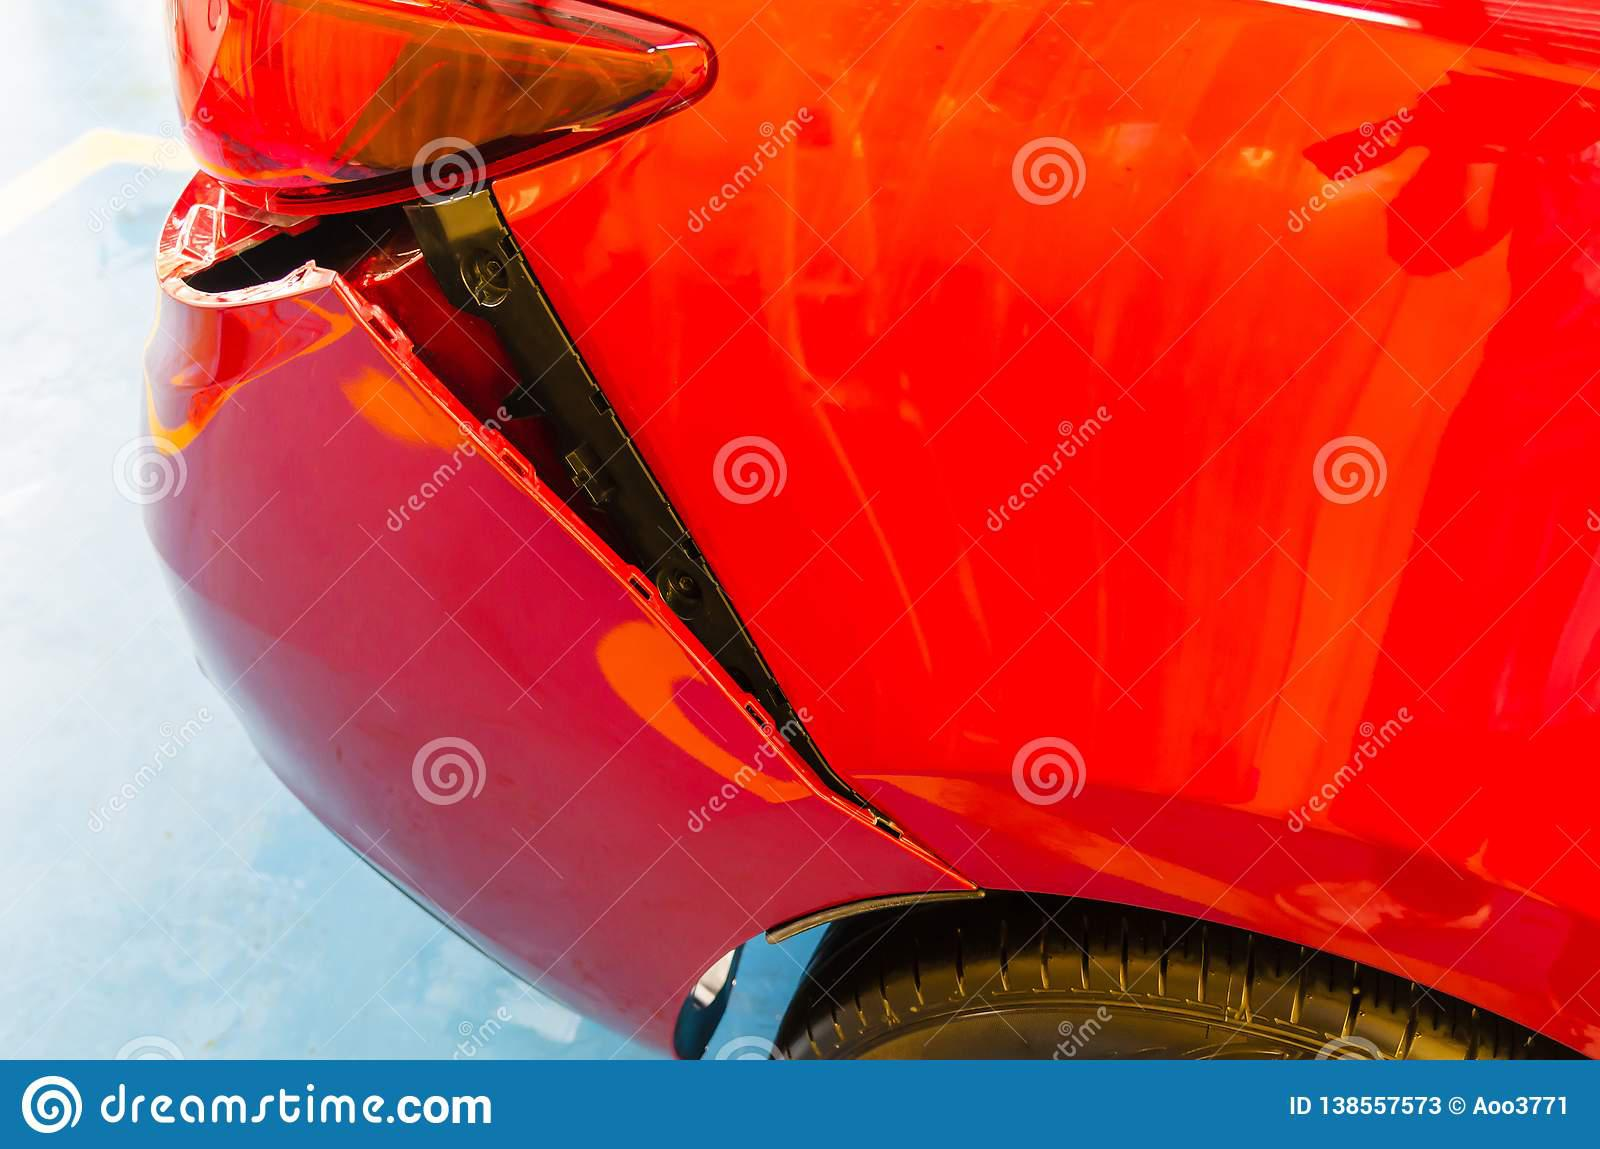rear-bumper-dent: (42, 119, 971, 947)
